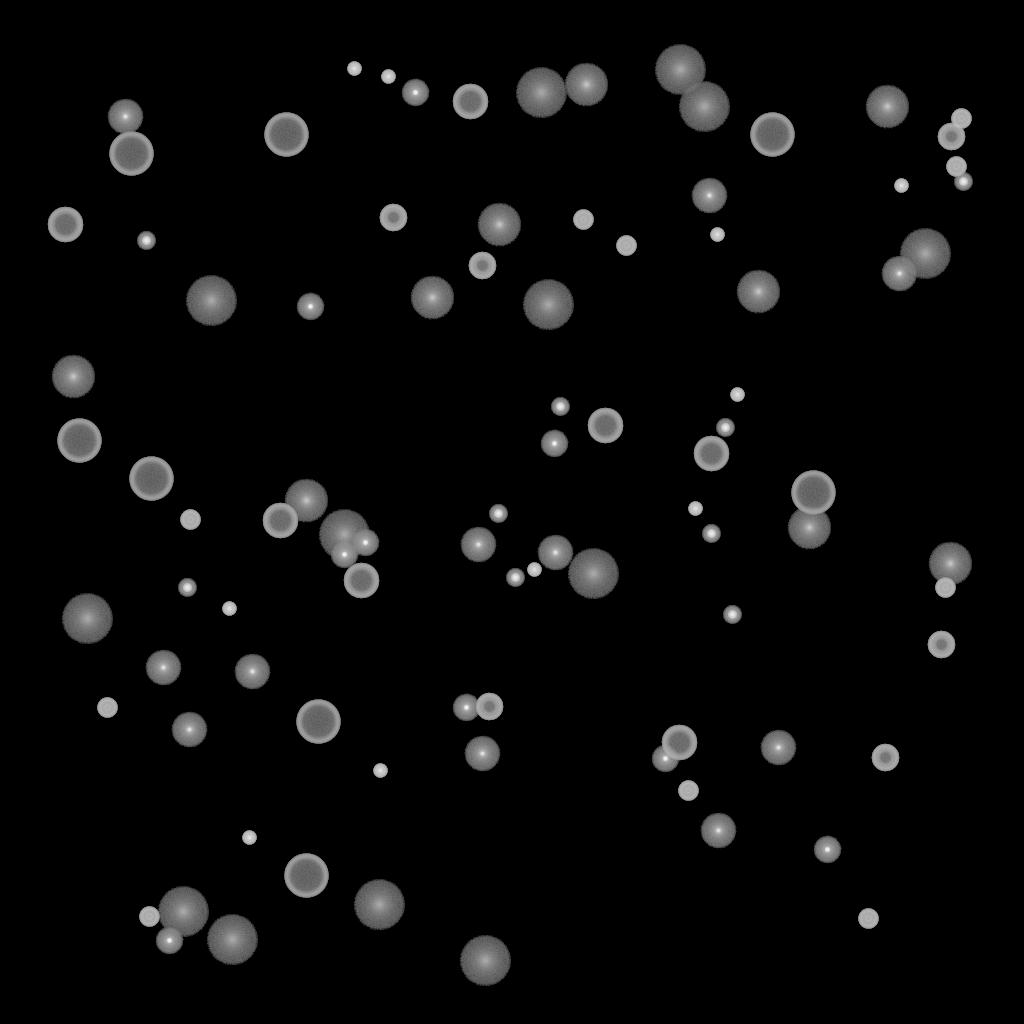depth:-10: (330, 541, 358, 569), (296, 293, 324, 321), (155, 927, 183, 955), (651, 745, 679, 773), (351, 529, 379, 557), (813, 836, 841, 864), (540, 430, 568, 458), (401, 79, 429, 107), (452, 694, 480, 722)
depth:-20: (954, 173, 972, 191), (506, 569, 524, 587), (551, 398, 569, 416), (178, 579, 196, 597), (137, 232, 155, 250), (489, 505, 507, 523), (702, 525, 720, 543), (723, 606, 741, 624), (716, 419, 734, 437)
depth:-30: (347, 62, 361, 76), (688, 502, 702, 516), (373, 764, 387, 778), (222, 602, 236, 616), (527, 563, 541, 577), (894, 179, 908, 193), (381, 70, 395, 84), (710, 228, 724, 242), (242, 831, 256, 845), (730, 388, 744, 402)
depth:-40: (97, 698, 117, 718), (573, 210, 593, 230), (951, 109, 971, 129), (678, 781, 698, 801), (139, 907, 159, 927), (935, 578, 955, 598), (946, 157, 966, 177), (858, 909, 878, 929), (180, 510, 200, 530), (616, 236, 636, 256)
depth:-50: (871, 744, 899, 772), (468, 252, 496, 280), (379, 204, 407, 232), (475, 693, 503, 721), (927, 631, 955, 659), (937, 123, 965, 151)
depth:-60: (343, 563, 379, 599), (661, 725, 697, 761), (452, 84, 488, 120), (262, 503, 298, 539), (693, 436, 729, 472), (47, 207, 83, 243), (587, 408, 623, 444)
depth:-70: (57, 419, 101, 463), (264, 113, 308, 157), (109, 132, 153, 176), (791, 471, 835, 515), (284, 854, 328, 898), (296, 700, 340, 744), (750, 113, 794, 157), (129, 457, 173, 501)
depth:0: (760, 730, 796, 766), (145, 650, 181, 686), (107, 99, 143, 135), (460, 527, 496, 563), (691, 178, 727, 214), (171, 712, 207, 748), (700, 813, 736, 849), (464, 736, 500, 772), (234, 654, 270, 690), (537, 535, 573, 571), (881, 256, 917, 292)
depth:10: (928, 542, 972, 586), (787, 506, 831, 550), (564, 63, 608, 107), (477, 203, 521, 247), (410, 276, 454, 320), (284, 479, 328, 523), (736, 270, 780, 314), (51, 355, 95, 399), (865, 85, 909, 129)
depth:20: (654, 45, 706, 95), (522, 280, 574, 330), (185, 276, 237, 326), (353, 880, 405, 930), (899, 229, 951, 279), (567, 549, 619, 599), (678, 82, 730, 132), (157, 887, 209, 937), (206, 915, 258, 965), (515, 68, 567, 118), (318, 510, 370, 560), (61, 594, 113, 644), (459, 936, 511, 986)
